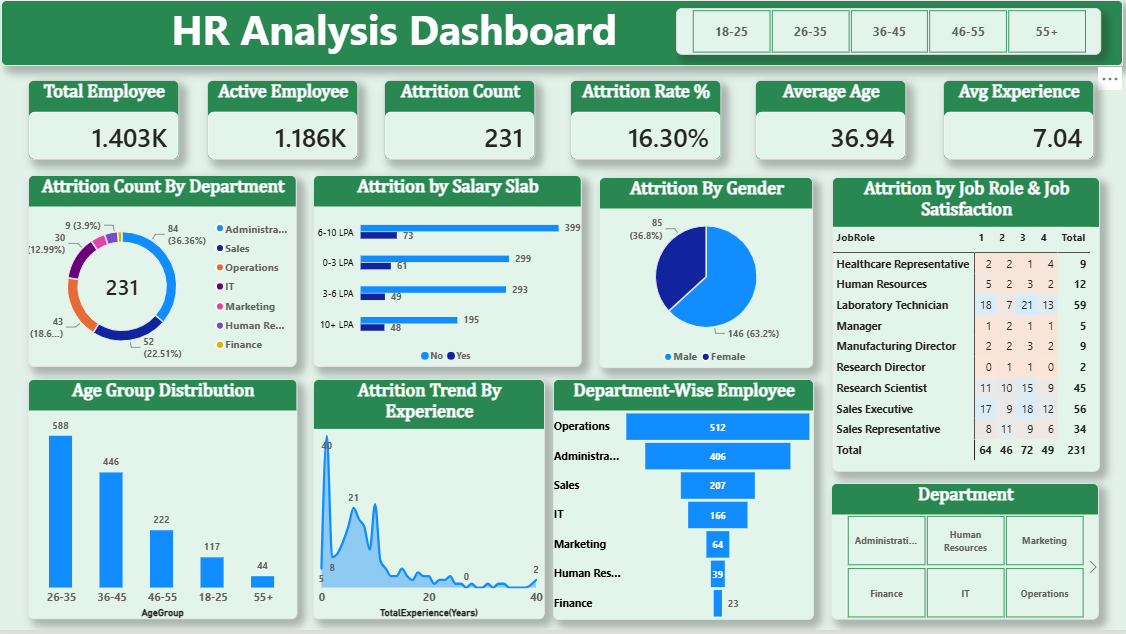

This screenshot's page, from the dashboard's own definition file:
{"tool":"powerbi","page":{"name":"Dashboard","canvas":[1480,820],"ordinal":0},"visuals":[{"type":"textbox","box":[7.9,0,1461.8,85.5],"z":0},{"type":"cardVisual","title":"Total Employee","fields":{"Data":["Count(HR_Analytics-4.EmpID)"]},"box":[43.4,103.9,197,104],"z":1000},{"type":"cardVisual","title":"Active Employee","fields":{"Data":["CountNonNull(HR_Analytics-4.EmployeeCount)"]},"box":[276.3,103.9,197,104],"z":2000},{"type":"cardVisual","title":"Attrition Count","fields":{"Data":["Sum(HR_Analytics-4.AttritionCount)"]},"box":[506.6,103.9,197,104],"z":3000},{"type":"cardVisual","title":"Average Age","fields":{"Data":["Avg(HR_Analytics-4.Age)"]},"box":[990.8,103.9,197,104],"z":4000},{"type":"cardVisual","title":"Avg Experience","fields":{"Data":["Avg(HR_Analytics-4.YearsatCompany)"]},"box":[1235.5,103.9,197,104],"z":5000},{"type":"cardVisual","title":"Attrition Rate %","fields":{"Data":["HR_Analytics-4.Attrition Rate %"]},"box":[748.7,103.9,197,104],"z":6000},{"type":"donutChart","title":"Attrition Count By Department","fields":{"Category":["HR_Analytics-4.Department"],"Y":["Sum(HR_Analytics-4.AttritionCount)"]},"box":[43.3,228.3,350,250],"z":7000},{"type":"clusteredBarChart","title":"Attrition by Salary Slab","fields":{"Category":["HR_Analytics-4.SalarySlab"],"Series":["HR_Analytics-4.Attrition"],"Y":["CountNonNull(HR_Analytics-4.EmpID)"]},"box":[414.1,228.3,350,250],"z":8000},{"type":"pivotTable","title":"Attrition by Job Role & Job Satisfaction","fields":{"Columns":["HR_Analytics-4.JobSatisfaction"],"Rows":["HR_Analytics-4.JobRole"],"Values":["Sum(HR_Analytics-4.AttritionCount)"]},"box":[1090.5,230.2,349.2,384.1],"z":9000},{"type":"clusteredColumnChart","title":"Age Group Distribution","fields":{"Category":["HR_Analytics-4.AgeGroup"],"Y":["CountNonNull(HR_Analytics-4.EmpID)"]},"box":[42.9,493.7,350.8,312.7],"z":10000},{"type":"pieChart","title":"Attrition By Gender","fields":{"Category":["HR_Analytics-4.Gender"],"Y":["Sum(HR_Analytics-4.AttritionCount)"]},"box":[787.3,230.2,279.4,249.2],"z":11000},{"type":"areaChart","title":"Attrition Trend By Experience","fields":{"Category":["HR_Analytics-4.TotalExperience(Years)"],"Y":["Sum(HR_Analytics-4.AttritionCount)"]},"box":[414.3,493.7,301.6,312.7],"z":12000},{"type":"funnel","title":"Department-Wise Employee","fields":{"Category":["HR_Analytics-4.Department"],"Y":["CountNonNull(HR_Analytics-4.EmpID)"]},"box":[727,493.7,340,314.3],"z":13000},{"type":"slicer","title":"Department","fields":{"Values":["HR_Analytics-4.Department"]},"box":[1089.7,629.5,348.7,178.2],"z":14000},{"type":"slicer","fields":{"Values":["HR_Analytics-4.AgeGroup"]},"box":[887.1,10.6,554.1,61.2],"z":14001}]}

Visuals, with their boxes in screenshot pixels (x1, y1, x2, y2), scaled from the page's 1480x820 canvas onto the 1126x634 screenshot:
textbox: detection(6, 0, 1118, 66)
"Total Employee" cardVisual: detection(33, 80, 183, 161)
"Active Employee" cardVisual: detection(210, 80, 360, 161)
"Attrition Count" cardVisual: detection(385, 80, 535, 161)
"Average Age" cardVisual: detection(754, 80, 904, 161)
"Avg Experience" cardVisual: detection(940, 80, 1090, 161)
"Attrition Rate %" cardVisual: detection(570, 80, 719, 161)
"Attrition Count By Department" donutChart: detection(33, 177, 299, 370)
"Attrition by Salary Slab" clusteredBarChart: detection(315, 177, 581, 370)
"Attrition by Job Role & Job Satisfaction" pivotTable: detection(830, 178, 1095, 475)
"Age Group Distribution" clusteredColumnChart: detection(33, 382, 300, 623)
"Attrition By Gender" pieChart: detection(599, 178, 812, 371)
"Attrition Trend By Experience" areaChart: detection(315, 382, 545, 623)
"Department-Wise Employee" funnel: detection(553, 382, 812, 625)
"Department" slicer: detection(829, 487, 1094, 624)
slicer - HR_Analytics-4.AgeGroup: detection(675, 8, 1096, 56)
